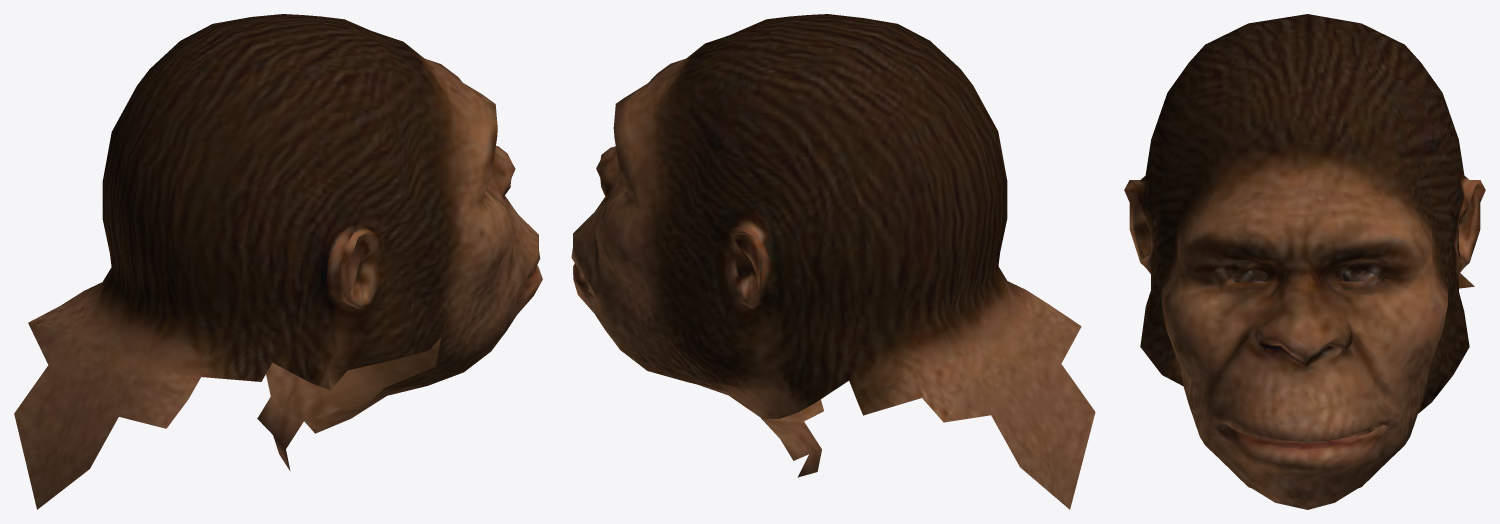
Rendered from meganthropus-kepala.glb.
3 renders of one model, left to right at view 1: azimuth 30°, elevation 25°; view 2: azimuth 150°, elevation 25°; view 3: azimuth 270°, elevation 25°, orthographic. The views are drawn at different scales.
Parts seen in each view (by area): view 1: Meganthropus-kepala; view 2: Meganthropus-kepala; view 3: Meganthropus-kepala.
Part boxes in pixels (box(x1,y1,x2,y2)): Meganthropus-kepala: box(14, 14, 542, 509); Meganthropus-kepala: box(571, 14, 1095, 509); Meganthropus-kepala: box(1124, 14, 1485, 509).
Bounding box in the file's own units: 0.2129 × 0.1836 × 0.1309.
Materials: 1 (1 with a texture image).
